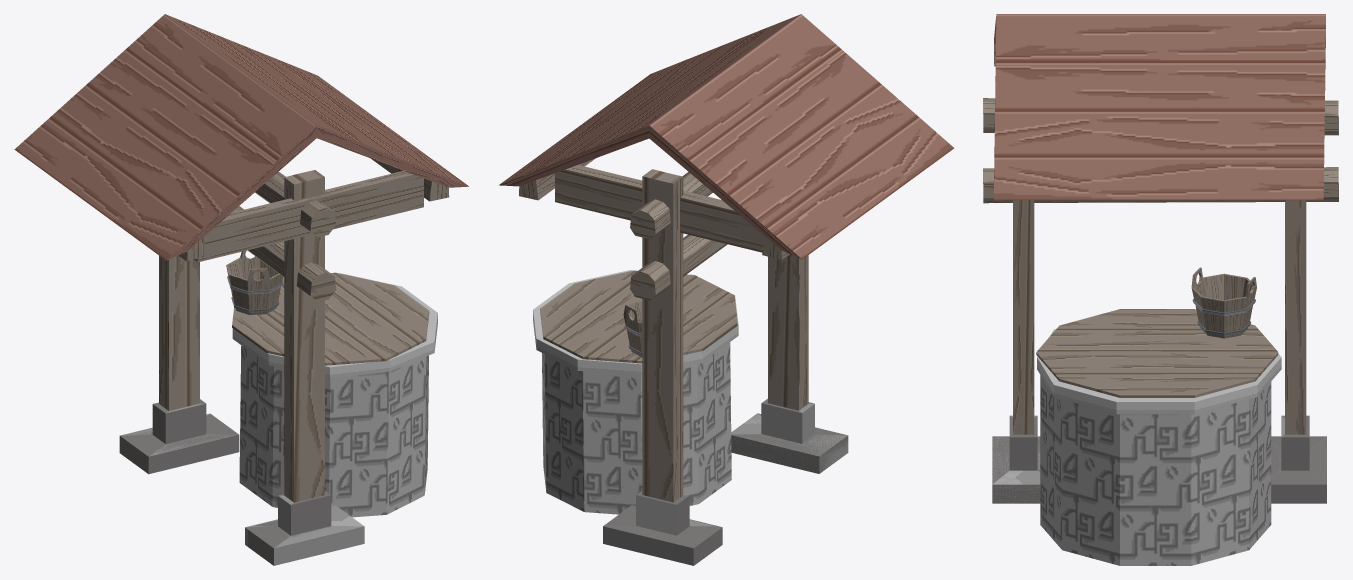
The model's file is WellTextured.fbx.
3 renders of one model, left to right at view 1: azimuth 30°, elevation 25°; view 2: azimuth 150°, elevation 25°; view 3: azimuth 270°, elevation 25°, orthographic. The views are drawn at different scales.
Visible parts, largest first — view 1: ROOF, stands, WELL, LID, bucket, botton log, top log; view 2: ROOF, stands, WELL, LID, botton log, top log, bucket; view 3: ROOF, WELL, stands, LID, bucket, botton log, top log.
Boxes of the visible parts, <box> form: ROOF: <box>14,14,468,262</box>; stands: <box>119,170,364,565</box>; WELL: <box>232,273,437,517</box>; LID: <box>232,272,429,365</box>; bucket: <box>226,250,283,314</box>; botton log: <box>232,206,336,301</box>; top log: <box>255,171,335,237</box>; ROOF: <box>499,14,954,260</box>; stands: <box>603,169,848,565</box>; WELL: <box>533,270,738,514</box>; LID: <box>540,270,737,363</box>; botton log: <box>630,234,727,300</box>; top log: <box>630,172,712,239</box>; bucket: <box>623,300,642,357</box>; ROOF: <box>994,14,1325,200</box>; WELL: <box>1037,329,1281,565</box>; stands: <box>992,200,1326,503</box>; LID: <box>1036,309,1278,397</box>; bucket: <box>1191,267,1256,338</box>; botton log: <box>983,167,1338,203</box>; top log: <box>983,98,1338,135</box>.
Bounding box in the file's own units: 313 × 391 × 271.
